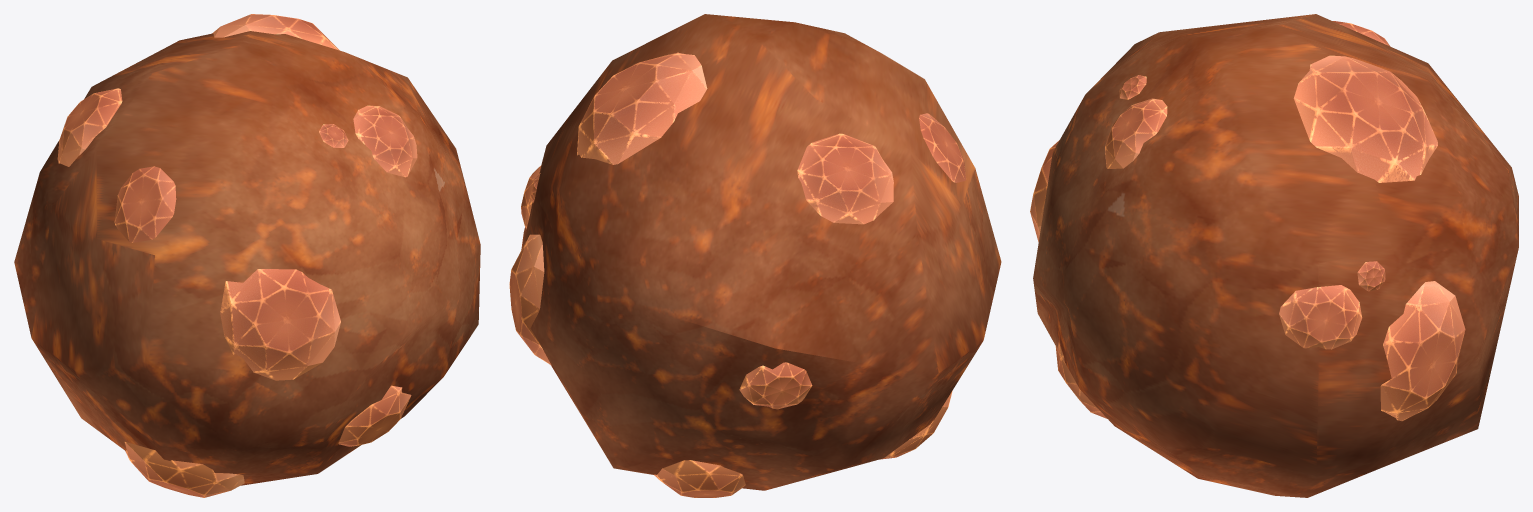
Rendered from crystal_sphere_red.fbx.
3 renders of one model, left to right at view 1: azimuth 30°, elevation 25°; view 2: azimuth 150°, elevation 25°; view 3: azimuth 270°, elevation 25°, orthographic. The views are drawn at different scales.
Parts seen in each view (by area): view 1: crystal_sphere_body_low, crystal_sphere_jewel_low; view 2: crystal_sphere_body_low, crystal_sphere_jewel_low; view 3: crystal_sphere_body_low, crystal_sphere_jewel_low.
Part boxes in pixels (x1,y1,x2,y2): crystal_sphere_body_low: (14, 31, 480, 485); crystal_sphere_jewel_low: (57, 14, 417, 497); crystal_sphere_body_low: (521, 14, 1001, 490); crystal_sphere_jewel_low: (509, 52, 966, 497); crystal_sphere_body_low: (1033, 14, 1518, 497); crystal_sphere_jewel_low: (1030, 21, 1465, 420).
Bounding box in the file's own units: 1.94 × 1.95 × 1.92.
